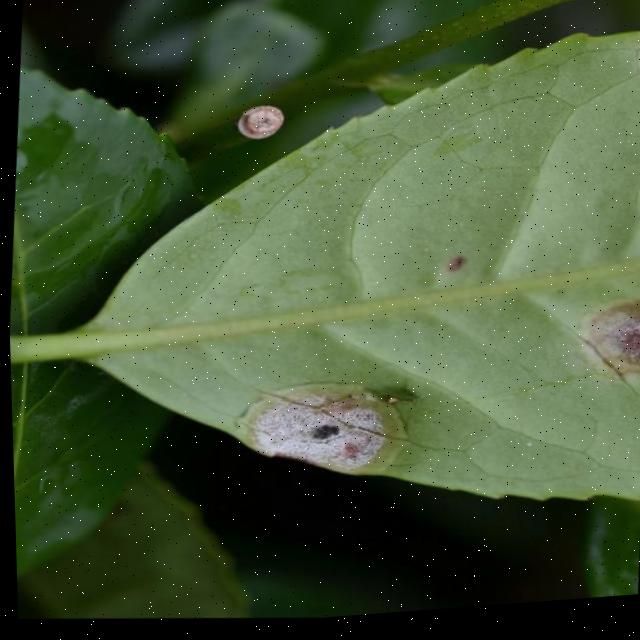Tea cake: (259, 384, 416, 479)
